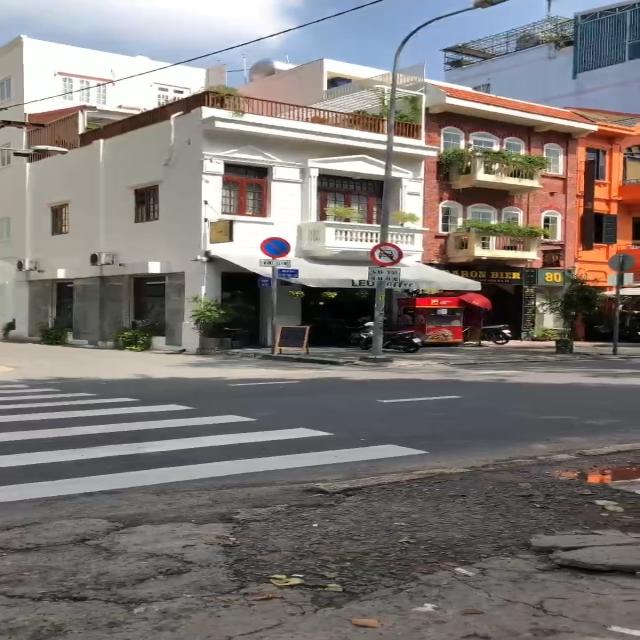Bien bao cam do xe: (256, 235, 296, 260)
Bien bao cam xe oto: (368, 240, 408, 268)
